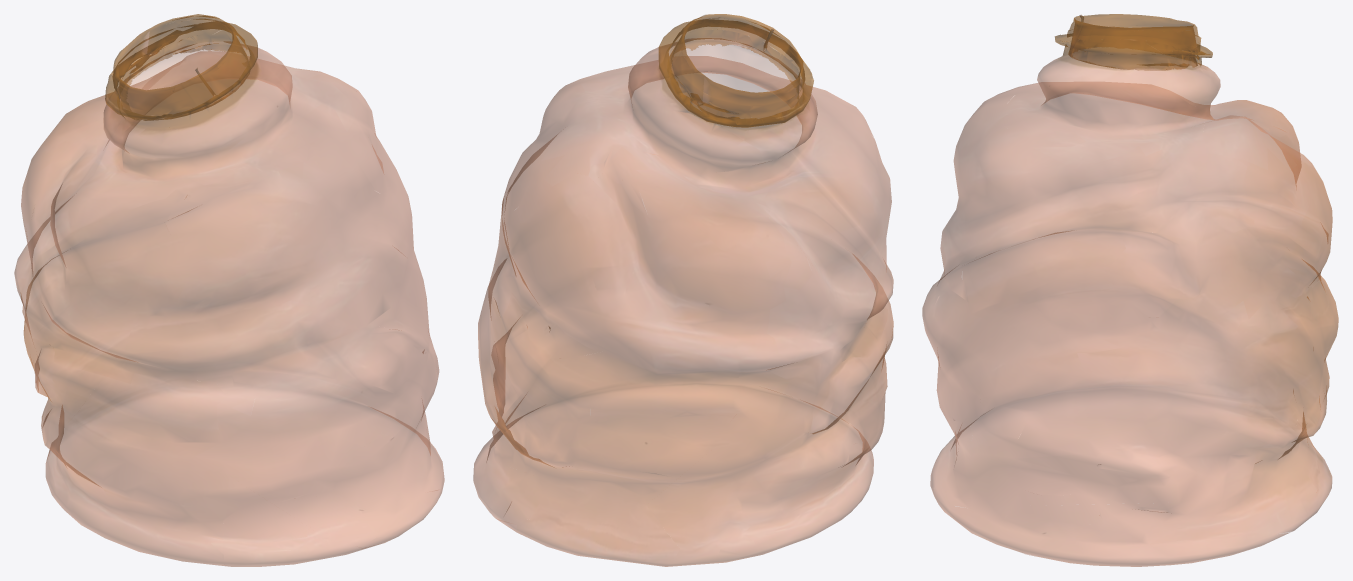
The model's file is 07_6_nj_et_brw_m_trs.glb.
The picture shows the model from 3 angles, left to right: view 1: azimuth 30°, elevation 25°; view 2: azimuth 150°, elevation 25°; view 3: azimuth 270°, elevation 25°; orthographic projection. The views are drawn at different scales.
Visible parts, largest first — view 1: brwn.003; view 2: brwn.003; view 3: brwn.003.
Part boxes in pixels (x1,y1,x2,y2): brwn.003: [14, 14, 444, 566]; brwn.003: [473, 14, 893, 566]; brwn.003: [922, 14, 1338, 566].
Size of the model in its own units: 0.2032 by 0.25 by 0.2035.
1 material, 1 textured.
